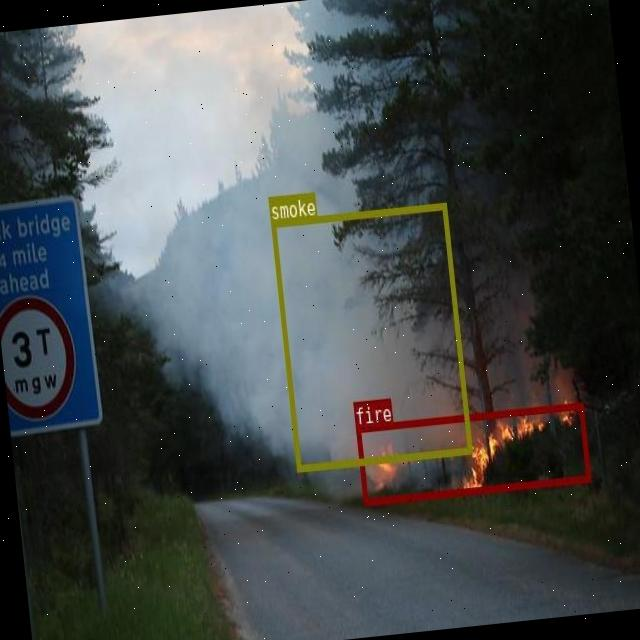fire: (354, 401, 590, 504)
smoke: (270, 202, 472, 472)
